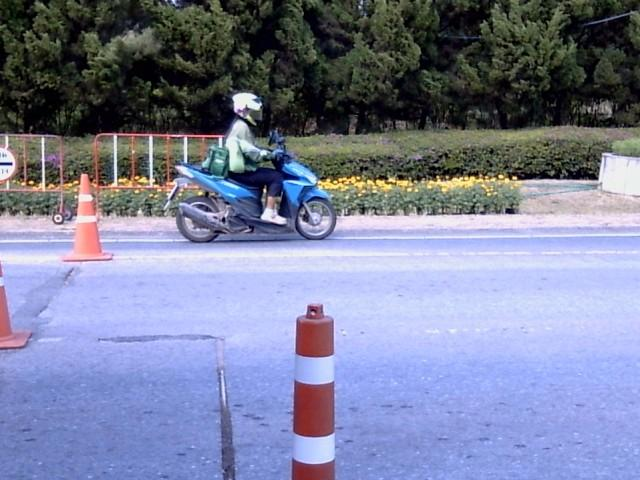helmet: (230, 90, 265, 125)
motor: (163, 130, 336, 241)
person: (225, 92, 286, 224)
